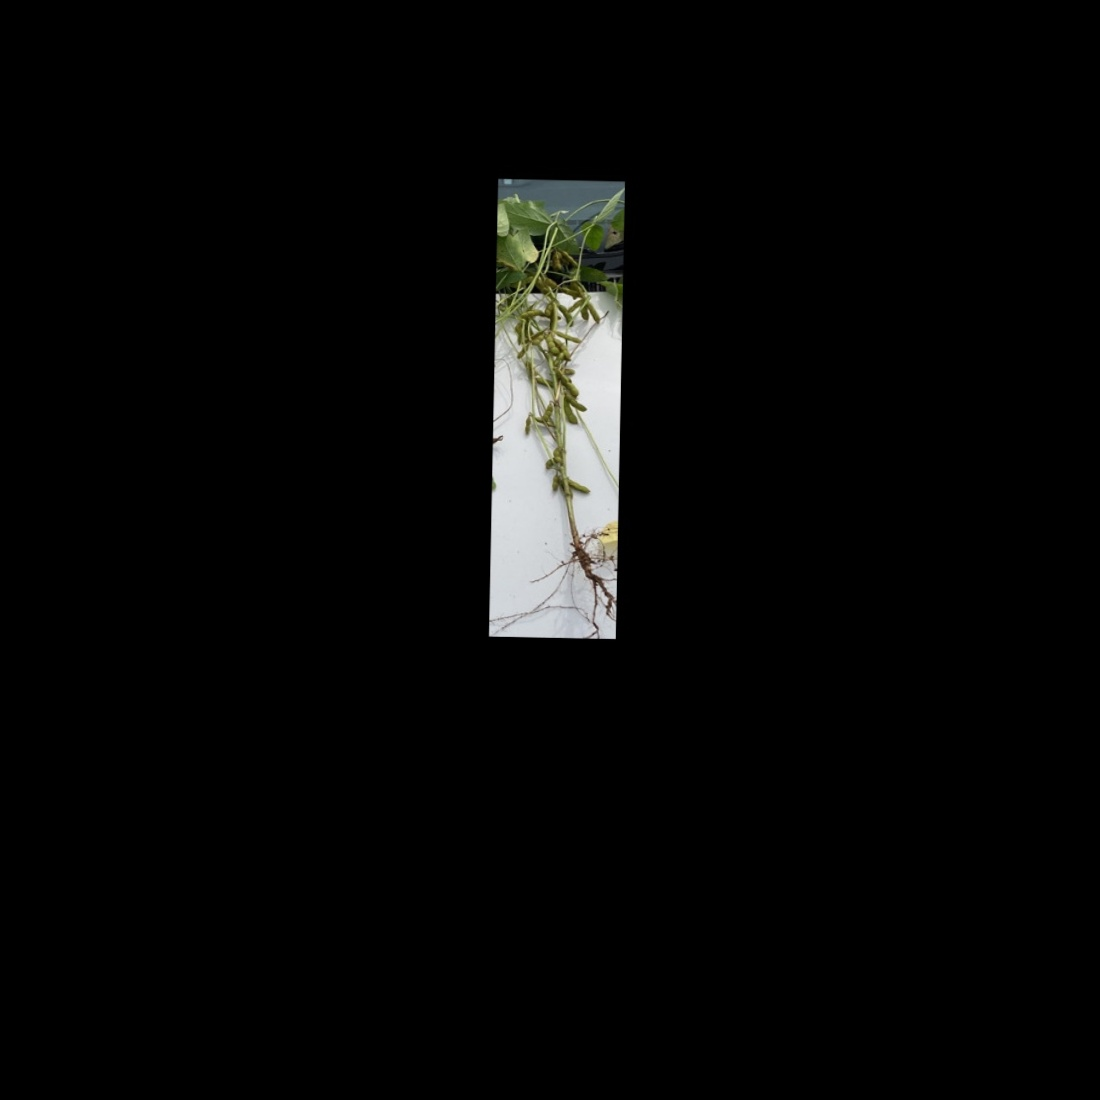pod: (555, 302, 577, 328), (566, 476, 593, 496), (541, 333, 562, 358), (564, 394, 591, 412), (538, 401, 553, 428), (516, 307, 543, 321), (520, 413, 535, 438)
soy: (501, 207, 617, 607)
